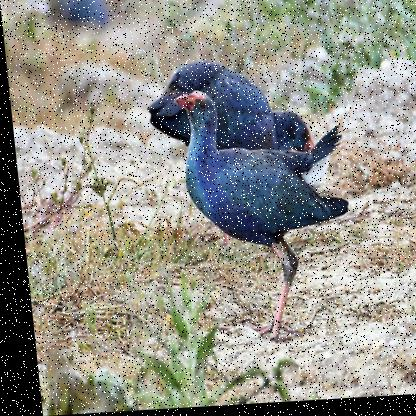Burung: (169, 86, 357, 345), (141, 57, 321, 181)
